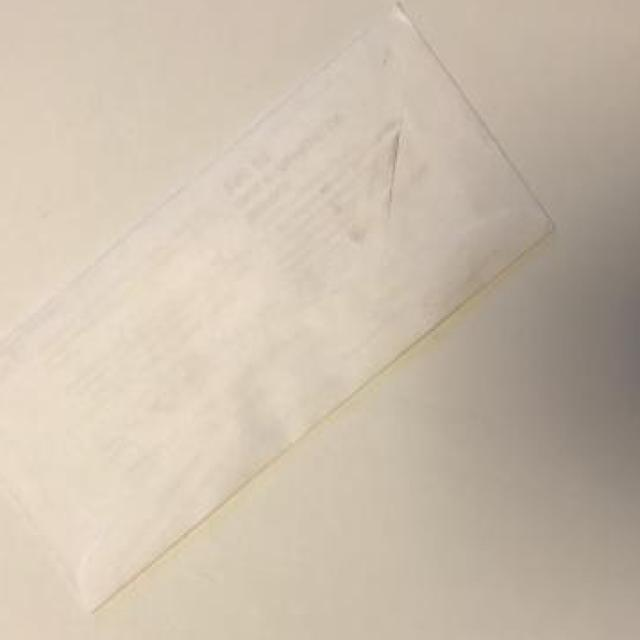organic: (7, 36, 587, 603)
